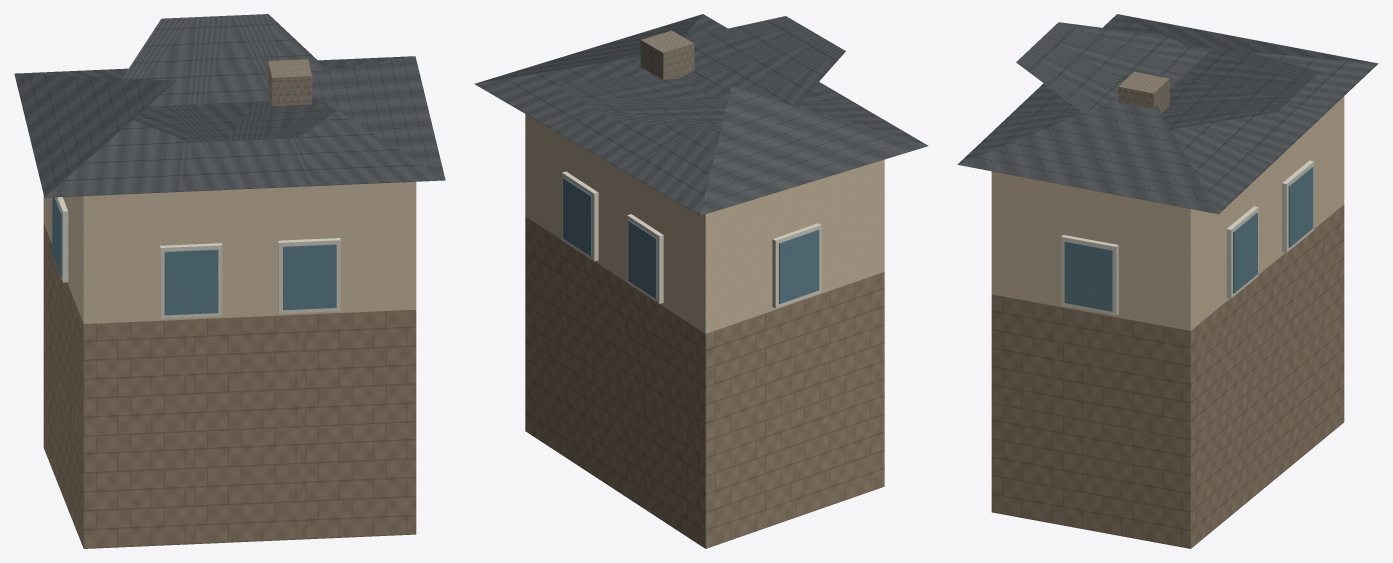
File: core_0025.gltf
3 renders of one model, left to right at view 1: azimuth 30°, elevation 25°; view 2: azimuth 150°, elevation 25°; view 3: azimuth 270°, elevation 25°, orthographic. The views are drawn at different scales.
Visible parts, largest first — view 1: core_0025; view 2: core_0025; view 3: core_0025.
Boxes of the visible parts, bbox=[...] form: core_0025: bbox=[14, 14, 445, 548]; core_0025: bbox=[474, 14, 928, 548]; core_0025: bbox=[957, 14, 1378, 548].
Size of the model in its own units: 9.12 by 8.65 by 8.11.
Materials: 6 (6 with a texture image).
